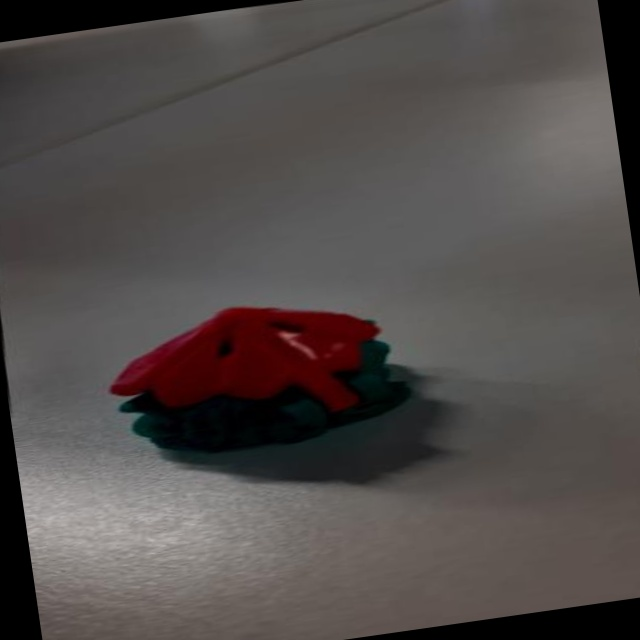House: (95, 280, 427, 469)
